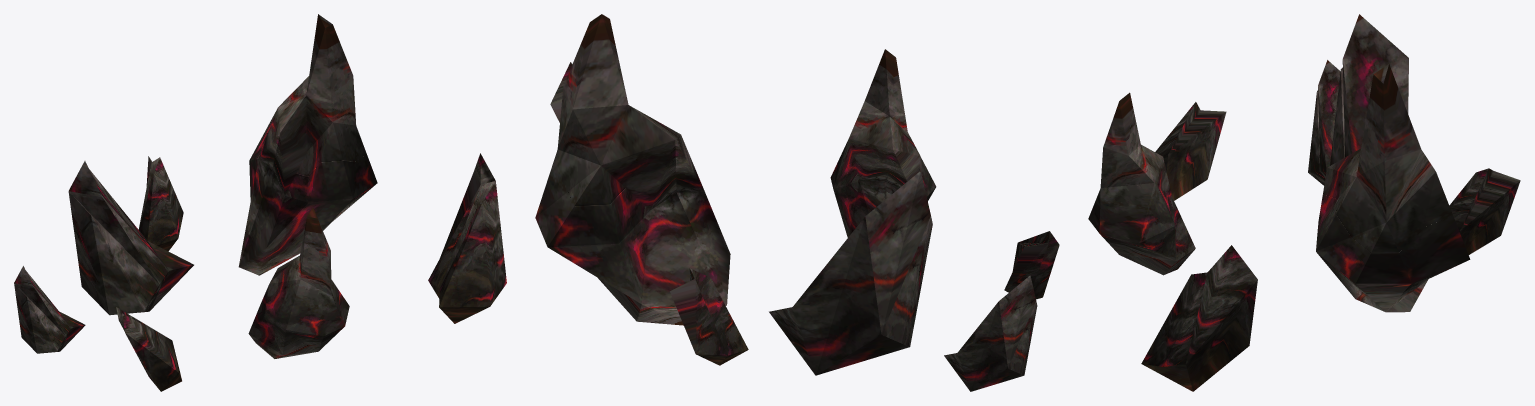
File: mesh_zhui4.FBX
3 renders of one model, left to right at view 1: azimuth 30°, elevation 25°; view 2: azimuth 150°, elevation 25°; view 3: azimuth 270°, elevation 25°, orthographic. The views are drawn at different scales.
Visible parts, largest first — view 1: zhui4; view 2: zhui4; view 3: zhui4.
Part boxes in pixels (x1,y1,x2,y2): zhui4: [14, 14, 506, 391]; zhui4: [535, 14, 1059, 391]; zhui4: [1088, 14, 1520, 391].
Size of the model in its own units: 36.83 by 21.43 by 28.06.
Materials: 1 (1 with a texture image).
